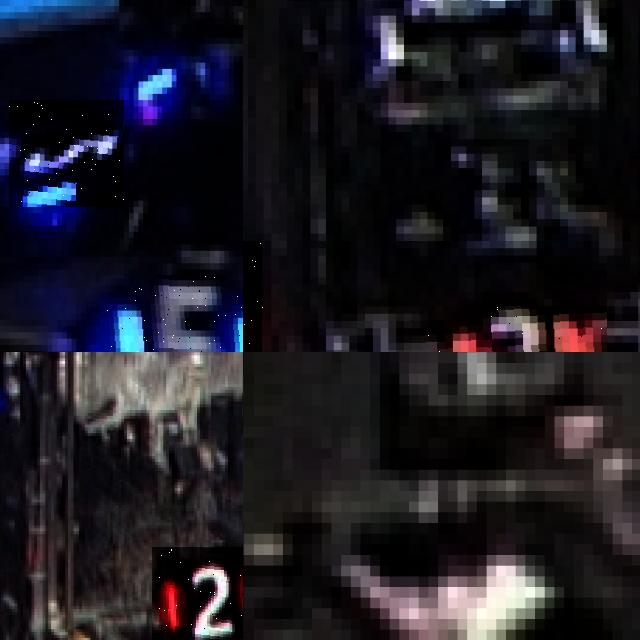B5: (9, 100, 124, 207), (100, 275, 243, 352)
R2: (412, 306, 607, 352), (152, 547, 243, 640)
